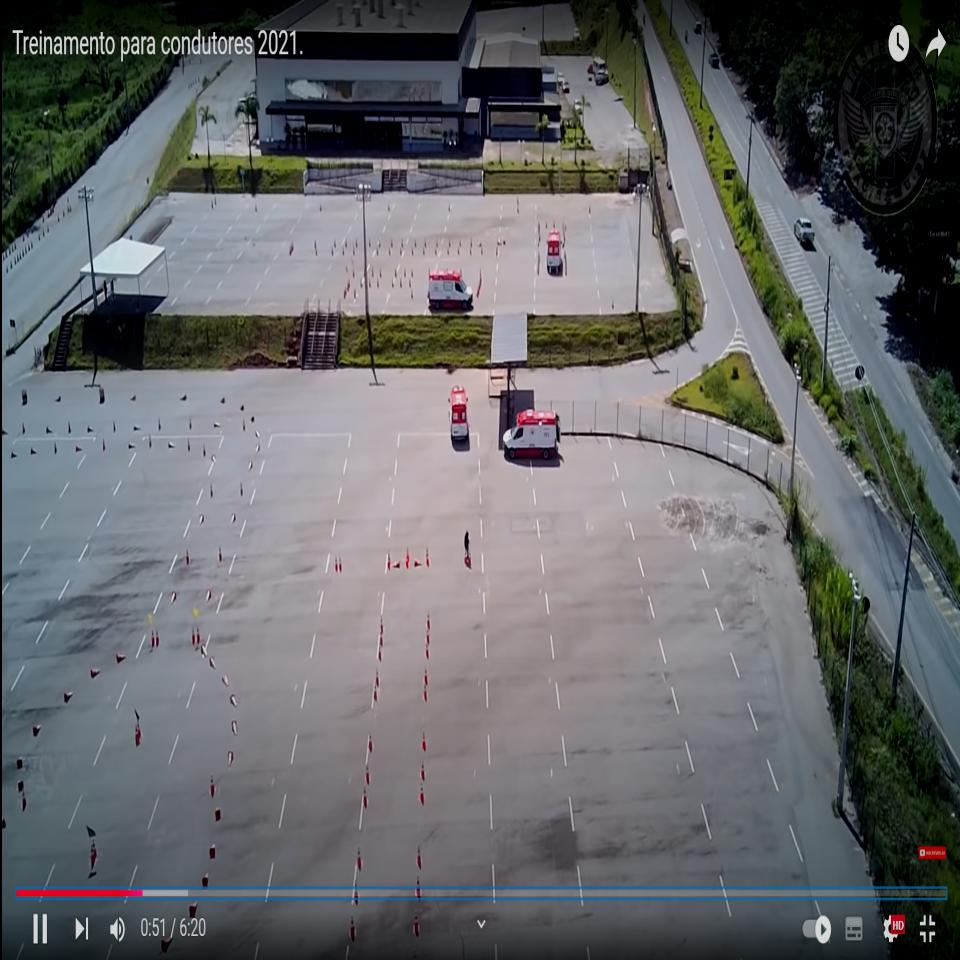ambulancia: (502, 408, 563, 462), (428, 270, 476, 310), (448, 386, 470, 442), (546, 228, 564, 275)
